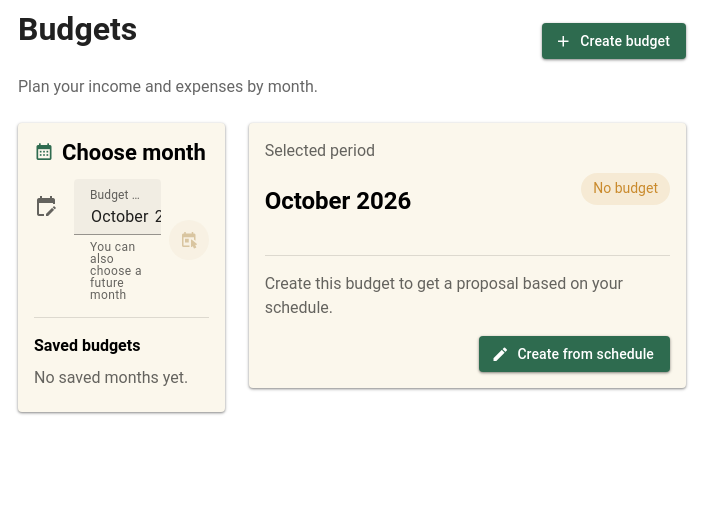
Test case: BudgetsView › uses the English fallback when preparing a budget fails with a non-Error
What coordinates should you click on to do the following:
click the button with test id "edit-budget"
I would click on:
 (575, 354)
Its box is 479,336 -> 670,372.
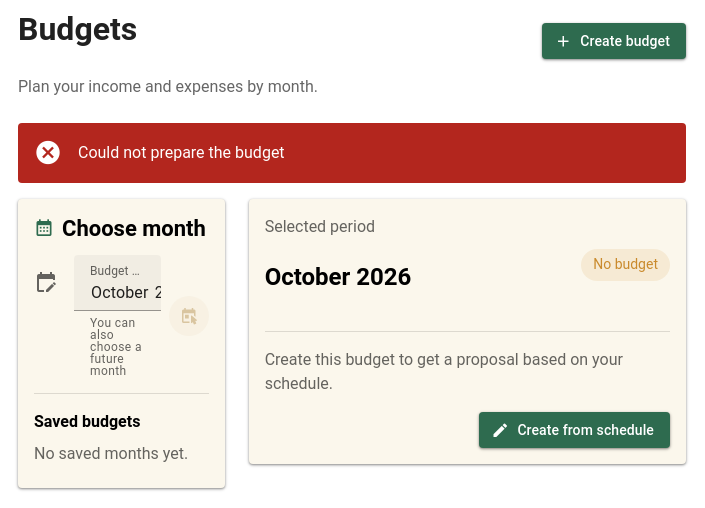
expect the element with test id "budget-action-error" reads "Could not prepare the budget": met, box 78,143 -> 285,162
